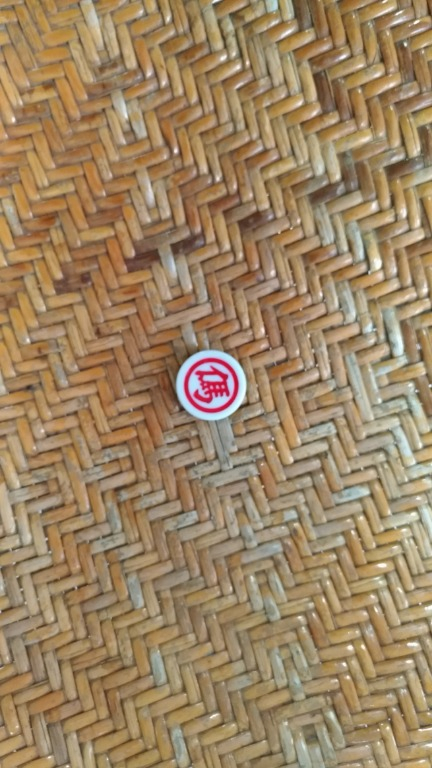r-knight: (165, 343, 257, 430)
